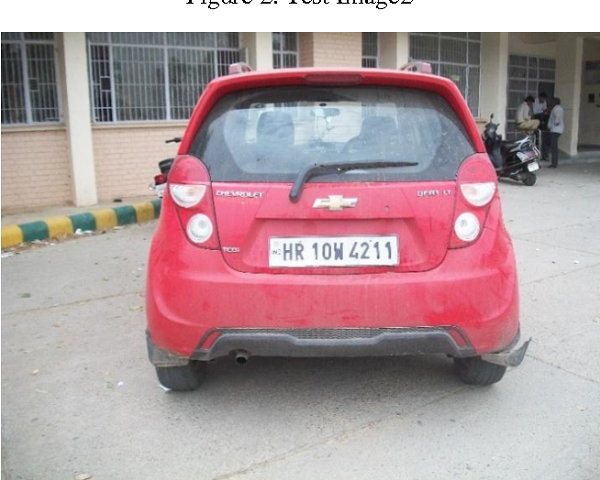licenseplate: (266, 232, 401, 269)
